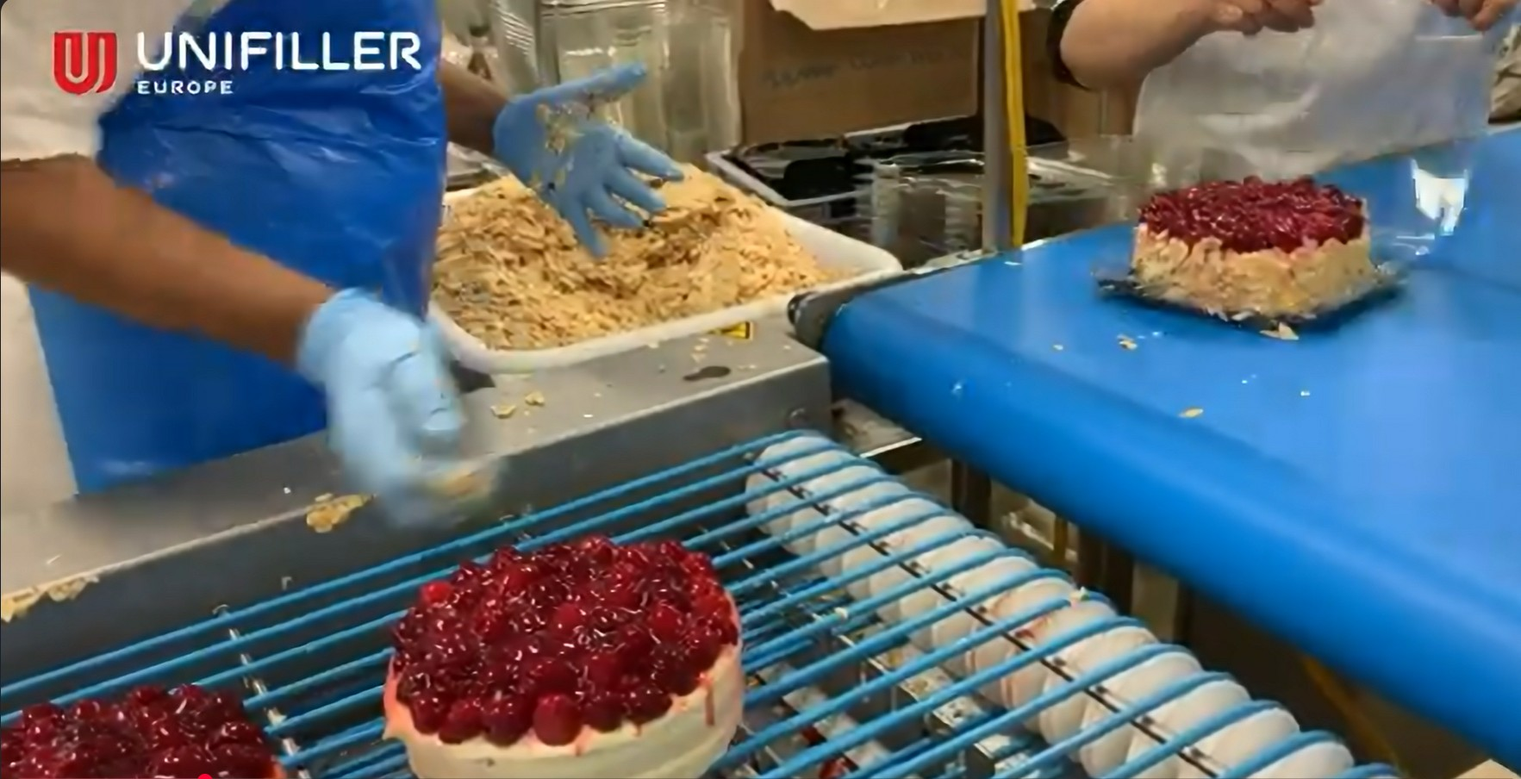Jam Coated: (387, 546, 740, 778), (1125, 177, 1386, 312), (0, 675, 275, 779)
